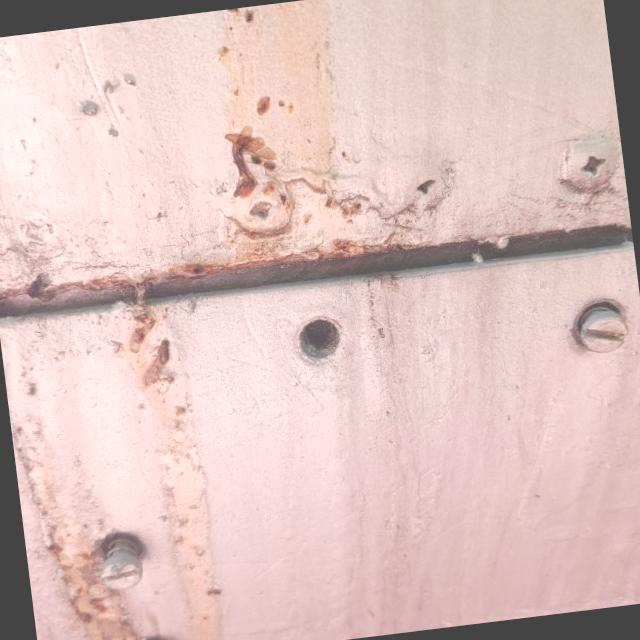Missing Fastener: (295, 316, 341, 361)
